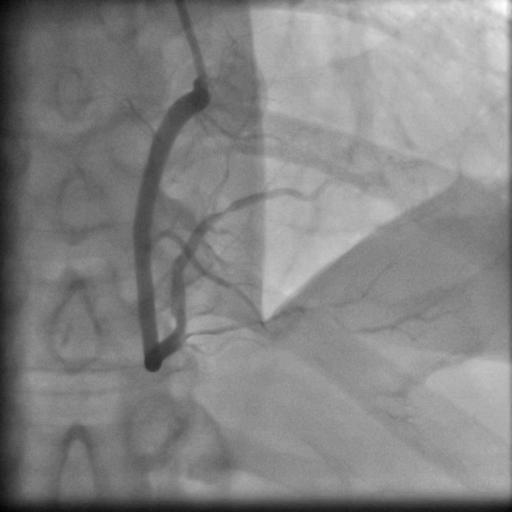Stenosis: (211, 204, 240, 222)
